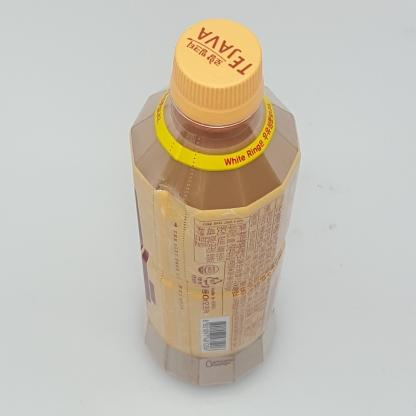-------------500ML: (129, 18, 301, 386)
